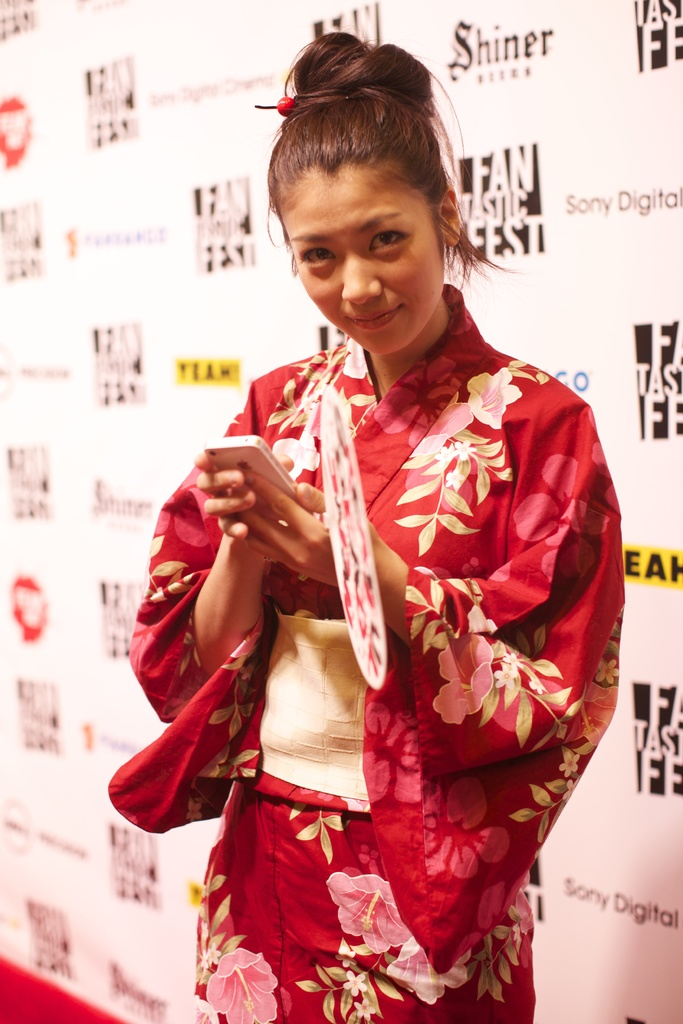Human_hand: (251, 453, 376, 589), (197, 450, 254, 538)
